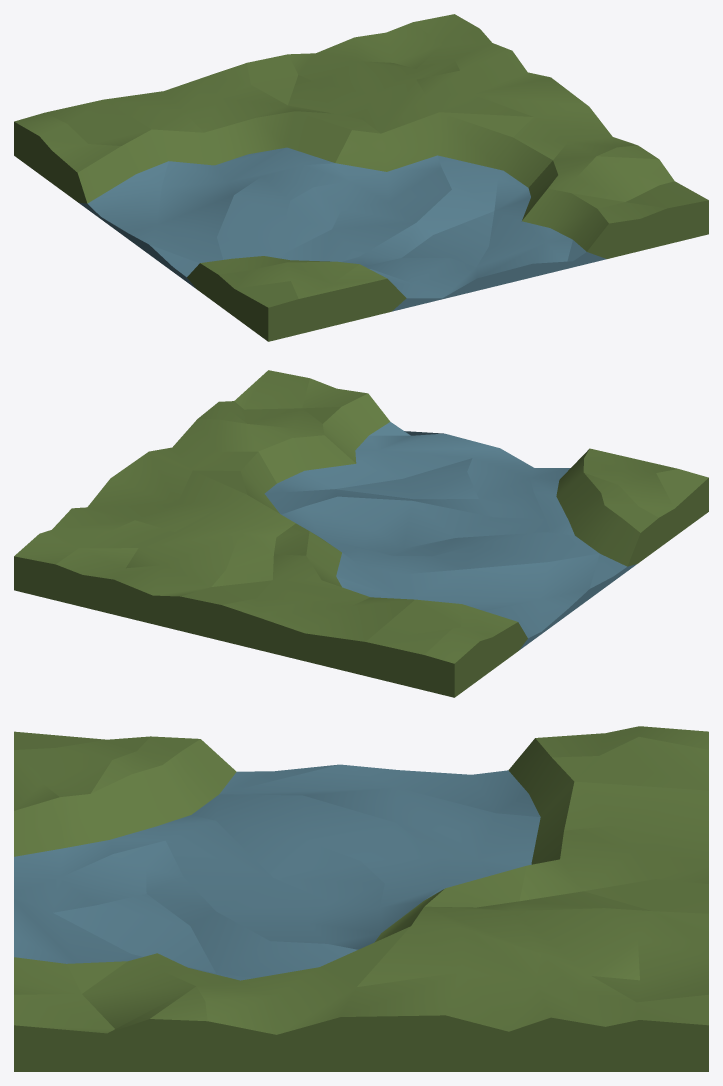
File: Water_Turn_RU.glb
3 renders of one model, top to bottom at view 1: azimuth 30°, elevation 25°; view 2: azimuth 150°, elevation 25°; view 3: azimuth 270°, elevation 25°, orthographic. The views are drawn at different scales.
Parts seen in each view (by area): view 1: Water_Turn_RU; view 2: Water_Turn_RU; view 3: Water_Turn_RU.
Part boxes in pixels (left/top/right/bottom): Water_Turn_RU: left=14, top=14, right=708, bottom=341; Water_Turn_RU: left=14, top=370, right=708, bottom=697; Water_Turn_RU: left=14, top=726, right=708, bottom=1071.
Size of the model in its own units: 1.47 by 0.1505 by 1.47.
